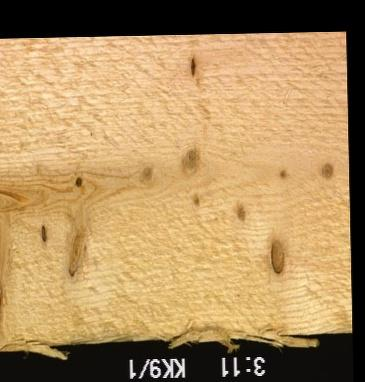dry_knot: (270, 238, 285, 274), (189, 56, 197, 78)
small_knot: (234, 198, 246, 223), (275, 166, 289, 183), (73, 175, 83, 188)
sound_knot: (179, 148, 202, 175), (140, 164, 153, 183), (322, 161, 334, 178), (188, 191, 199, 207)
